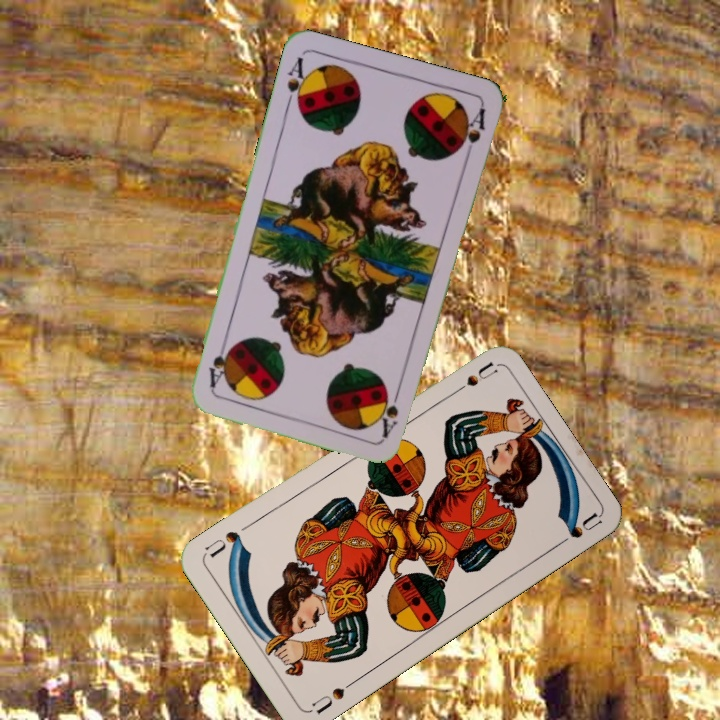SA: (281, 53, 312, 113), (378, 381, 404, 439)
SU: (444, 358, 500, 400), (307, 676, 358, 717)
